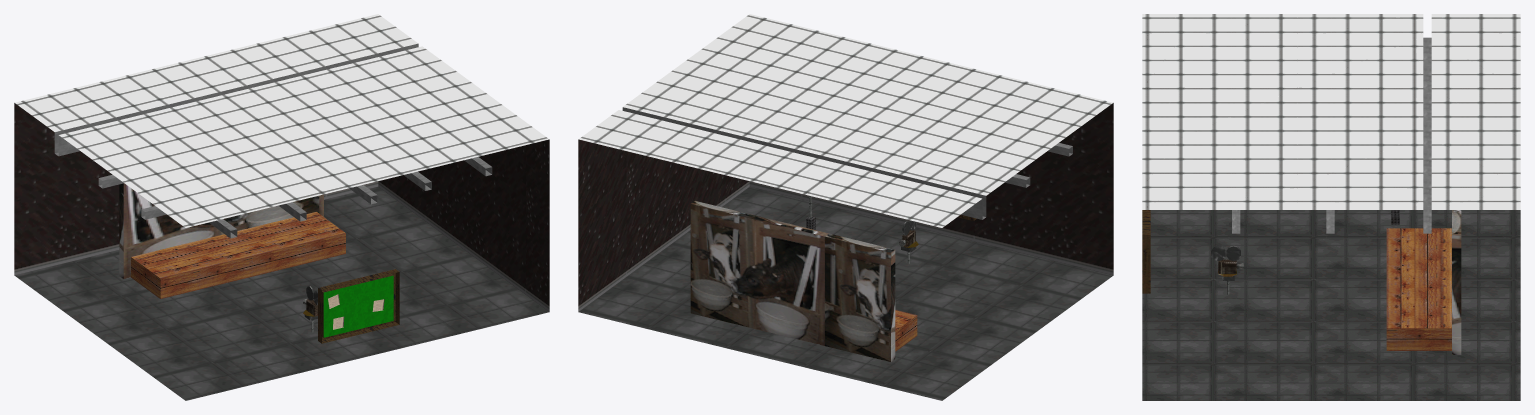
The model's file is Studio_brush.glb.
3 views of the same model, side by side, from view 1: azimuth 30°, elevation 25°; view 2: azimuth 150°, elevation 25°; view 3: azimuth 270°, elevation 25° (orthographic). The views are drawn at different scales.
Visible parts, largest first — view 1: Studio; view 2: Studio; view 3: Studio.
Boxes of the visible parts, left/top/right/bottom form: Studio: left=14, top=14, right=549, bottom=400; Studio: left=578, top=14, right=1113, bottom=400; Studio: left=1142, top=14, right=1520, bottom=400.
Bounding box in the file's own units: 890 × 404 × 726.
18 materials, 18 textured.
